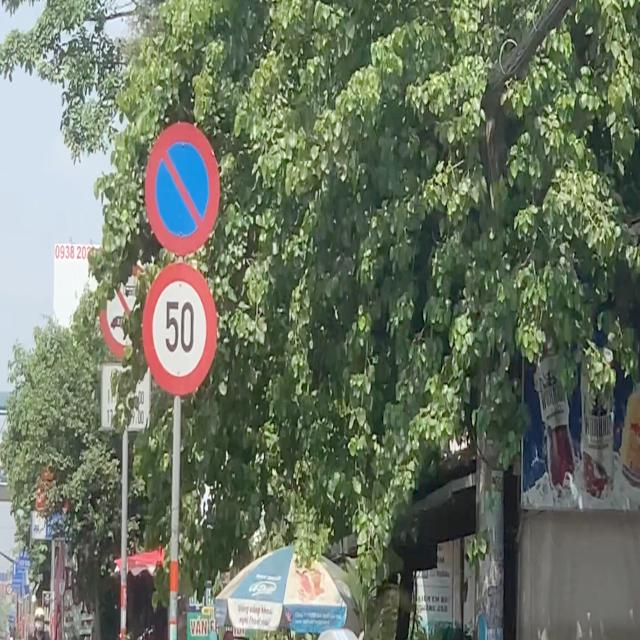Cam do: (140, 108, 218, 254)
Toc do toi da: (142, 262, 215, 399)
